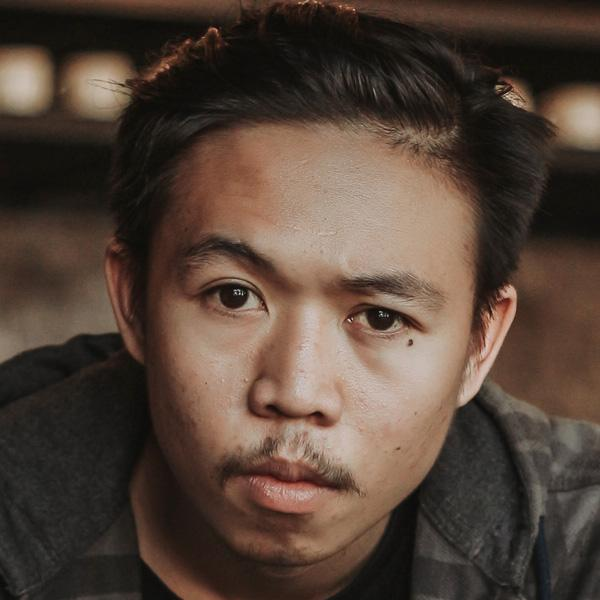Eyes: (182, 265, 275, 328), (335, 292, 423, 351)
